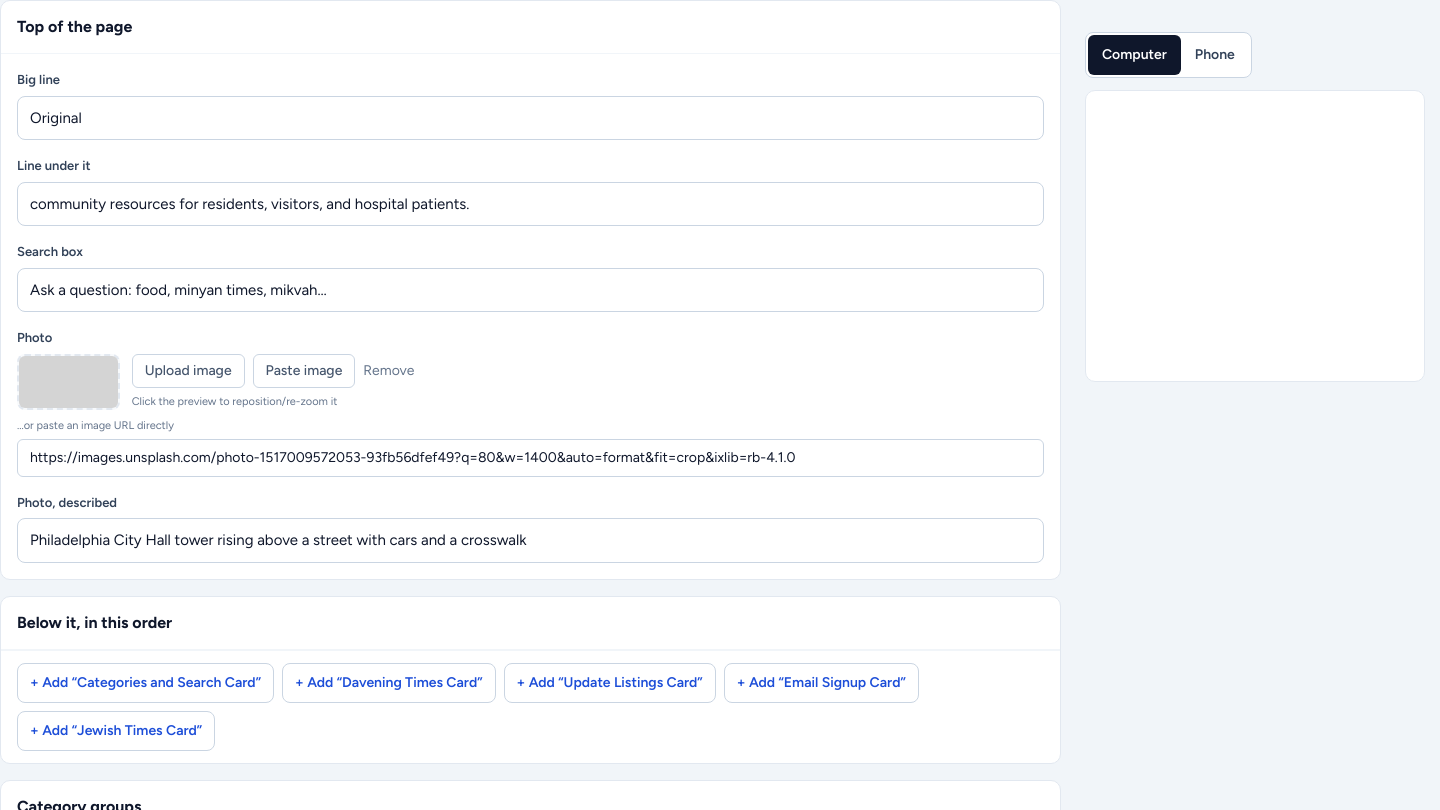
Scenario: SiteSettingsEditor — Home page › Undo puts every field back and takes the bar away
The image size is (1440, 810).
Expected: the element named "Preview" is shown, left=1085, top=32, right=1425, bottom=382
Replace the text in the field labelled "Big line" with "Changed" at (530, 118), box left=17, top=96, right=1044, bottom=140
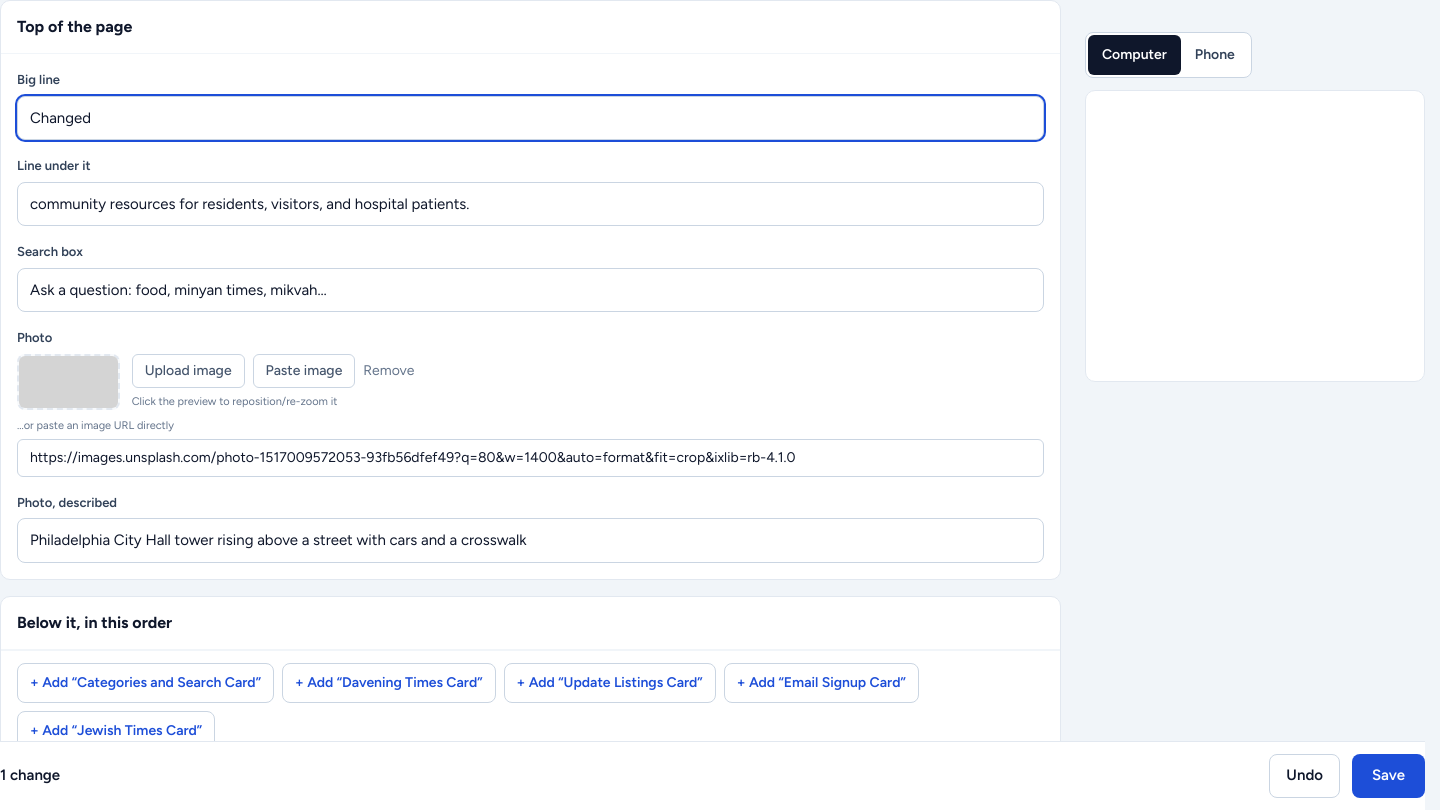
Click the button "Undo" at (1305, 776), box left=1269, top=754, right=1340, bottom=798
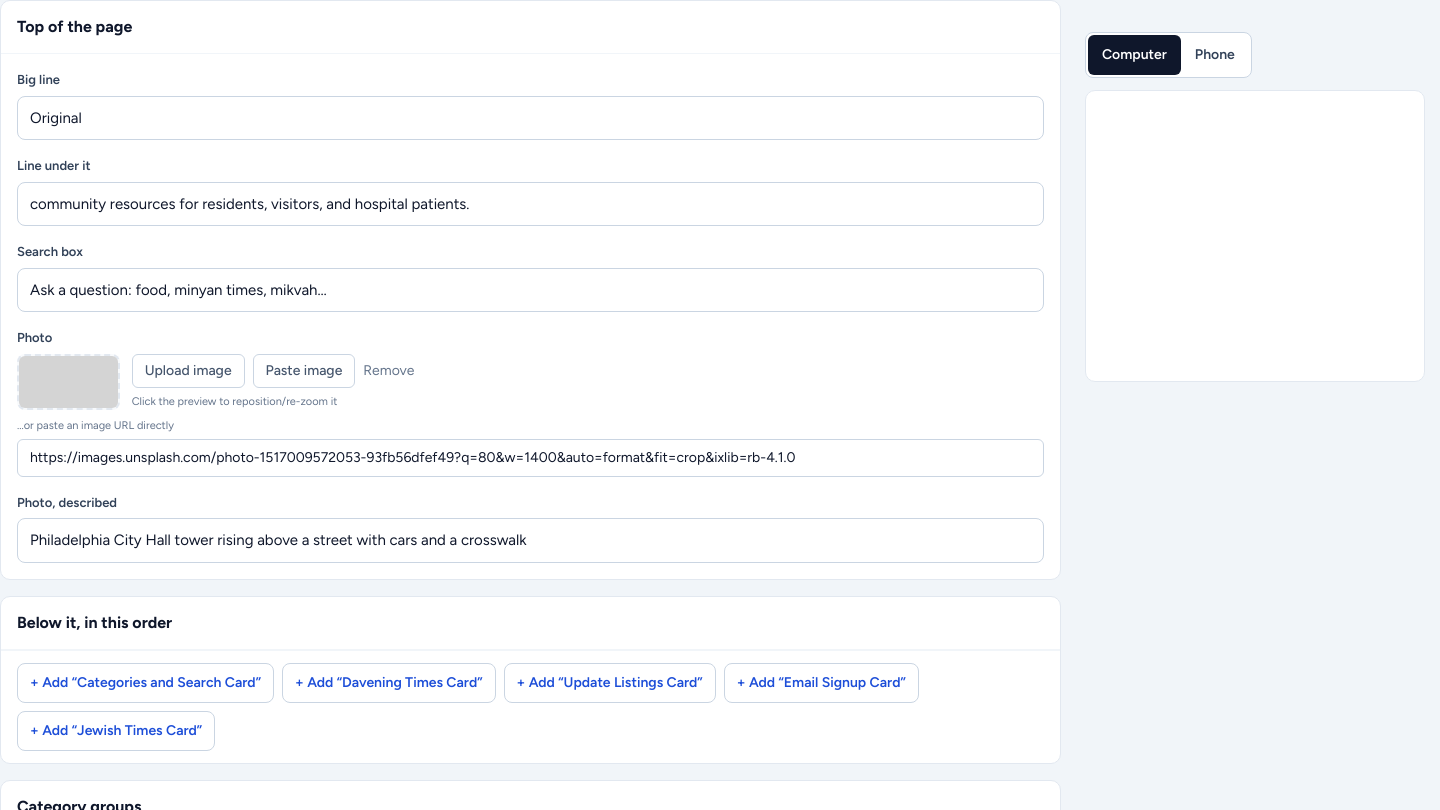
Result: the field labelled "Big line" holds "Original" at left=17, top=96, right=1044, bottom=140
